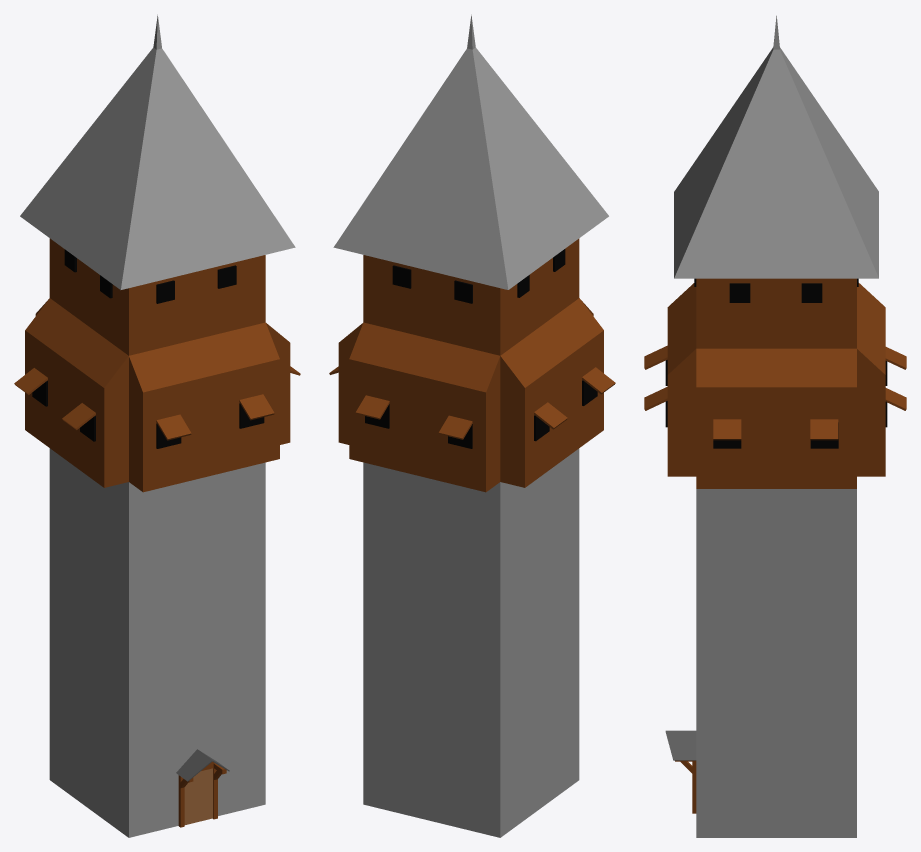
The model's file is Tower.fbx.
The picture shows the model from 3 angles, left to right: view 1: azimuth 30°, elevation 25°; view 2: azimuth 150°, elevation 25°; view 3: azimuth 270°, elevation 25°; orthographic projection.
Parts seen in each view (by area): view 1: Tower; view 2: Tower; view 3: Tower.
Part boxes in pixels (bbox=[...]): Tower: bbox=[14, 14, 300, 837]; Tower: bbox=[329, 14, 615, 837]; Tower: bbox=[644, 15, 906, 837].
Bounding box in the file's own units: 1187 × 3924 × 1179.
